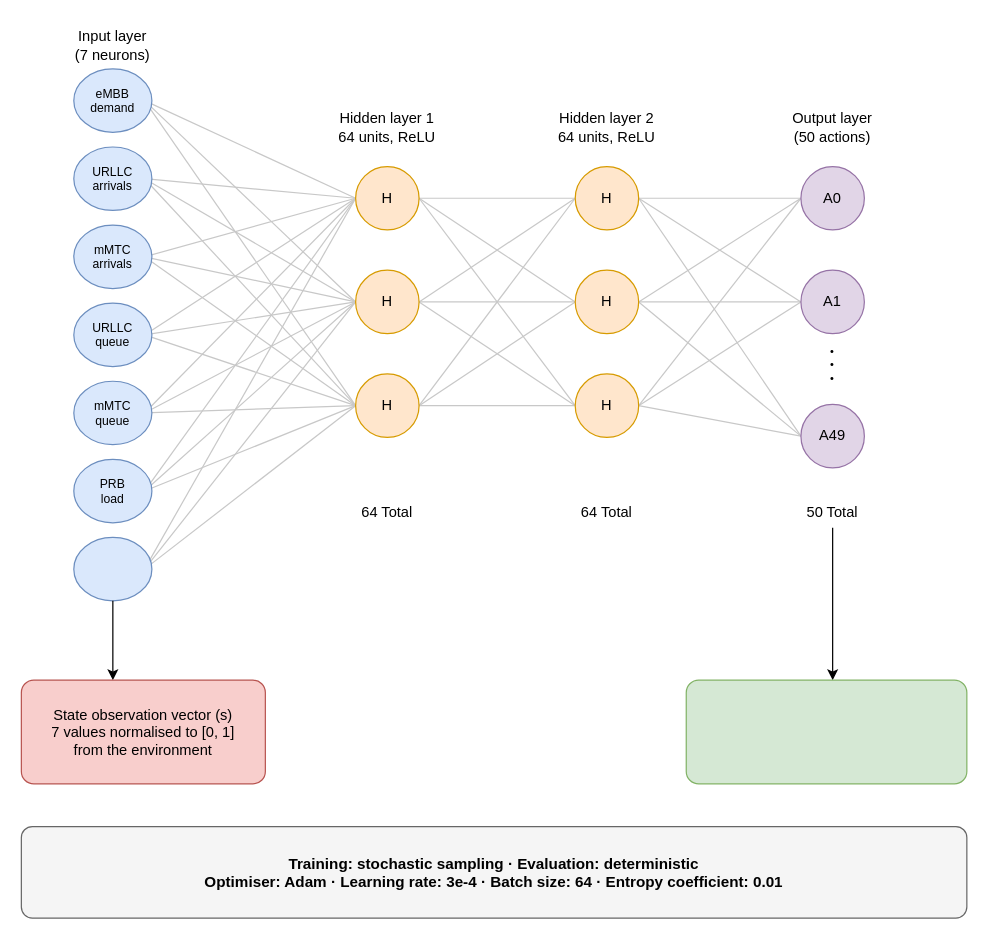
This 988x939 diagram has some shape labels left out. Here are the shapes that lost their labels. From the top down, the centre of each, then its label:
At [112,568]: "time".
At [826,731]: "Selected action Split pattern (10) × PRB level (5) → PRB allocation + energy use".
